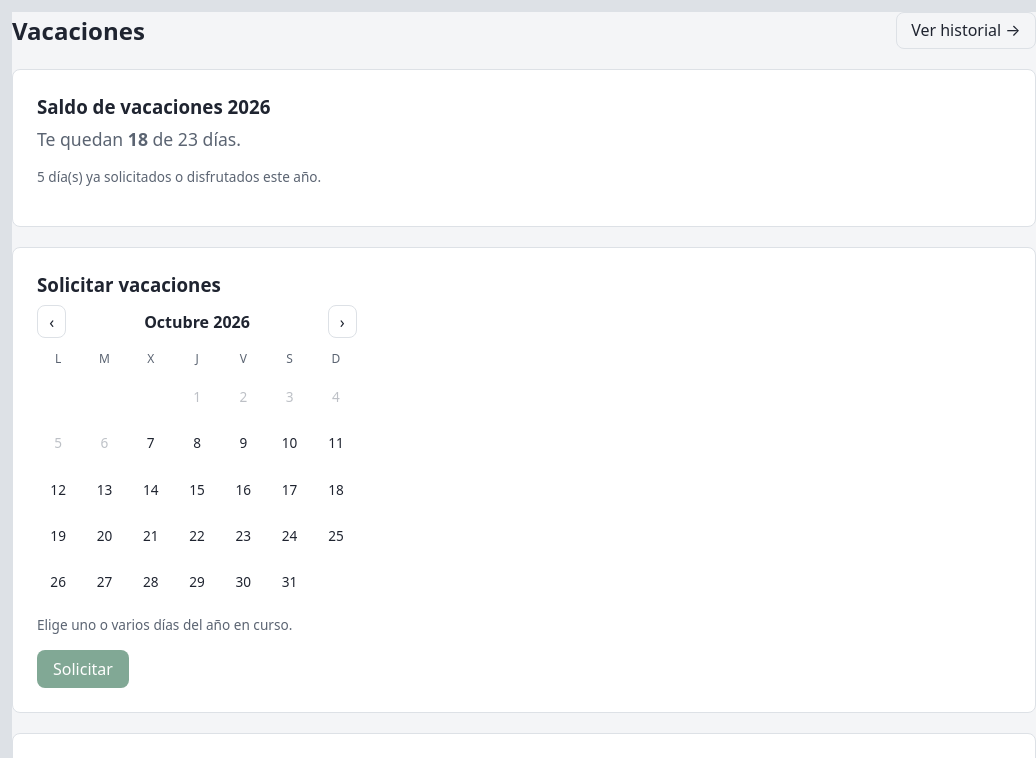
it: WorkerVacations › muestra el mensaje de un ApiError si falla enviar la solicitud de vacaciones
The image size is (1036, 758).
Click the button "7": coordinates (151, 443) x1=130 y1=422 x2=172 y2=464
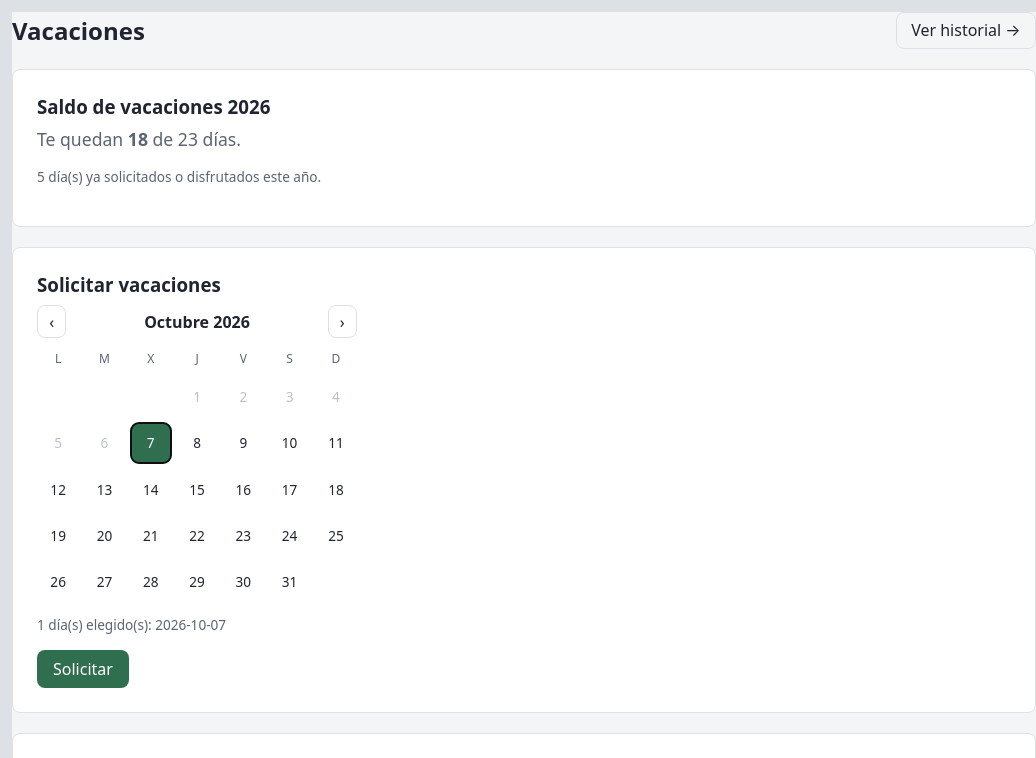
Click the button "Solicitar": coordinates (83, 669) x1=37 y1=650 x2=129 y2=688
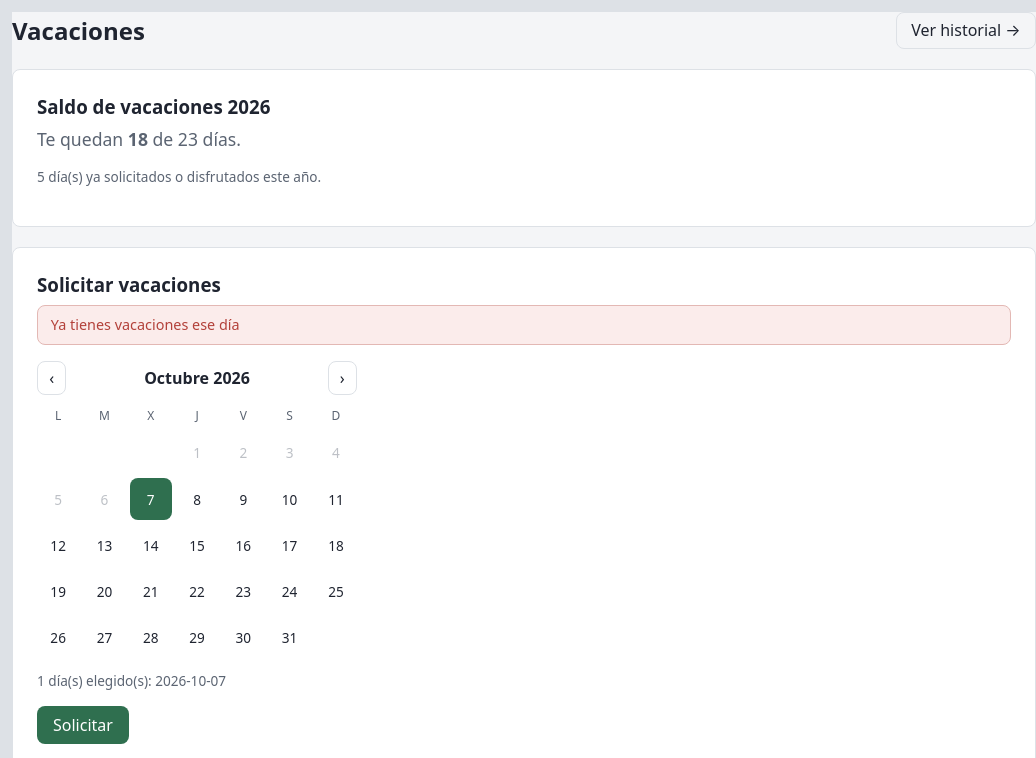
Expected: the text "Ya tienes vacaciones ese día" is shown, x1=37 y1=305 x2=1011 y2=345
